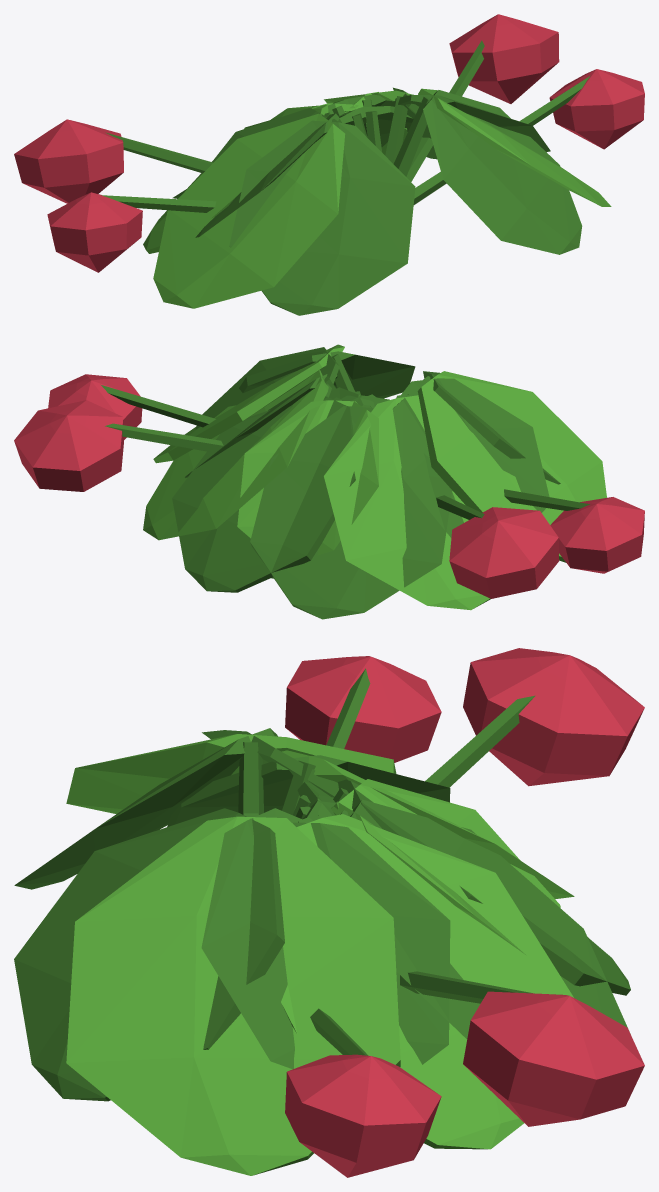
The model's file is strawberry_3.gltf.
The picture shows the model from 3 angles, top to bottom: view 1: azimuth 30°, elevation 25°; view 2: azimuth 150°, elevation 25°; view 3: azimuth 270°, elevation 25°; orthographic projection. The views are drawn at different scales.
Visible parts, largest first — view 1: strawberry_3; view 2: strawberry_3; view 3: strawberry_3.
Part boxes in pixels (x1,y1,x2,y2): strawberry_3: [14, 14, 644, 315]; strawberry_3: [14, 344, 644, 619]; strawberry_3: [14, 648, 644, 1177].
Bounding box in the file's own units: 0.5352 × 0.1341 × 0.3052.
